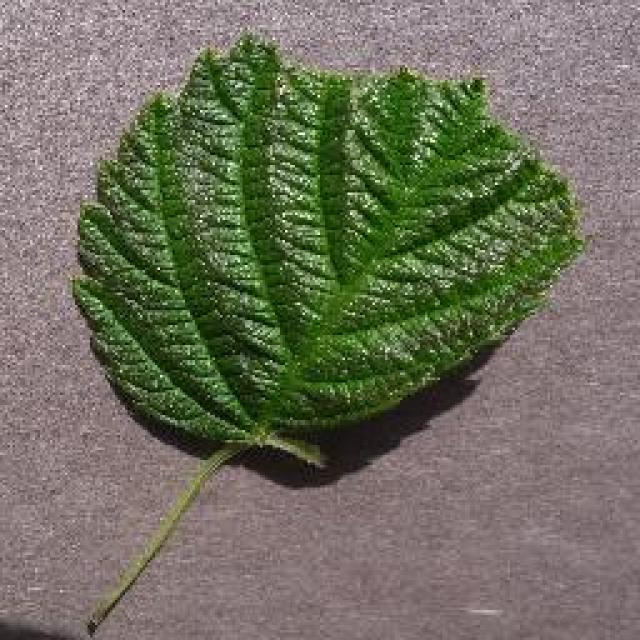Ras_healthy: (87, 60, 562, 432)
